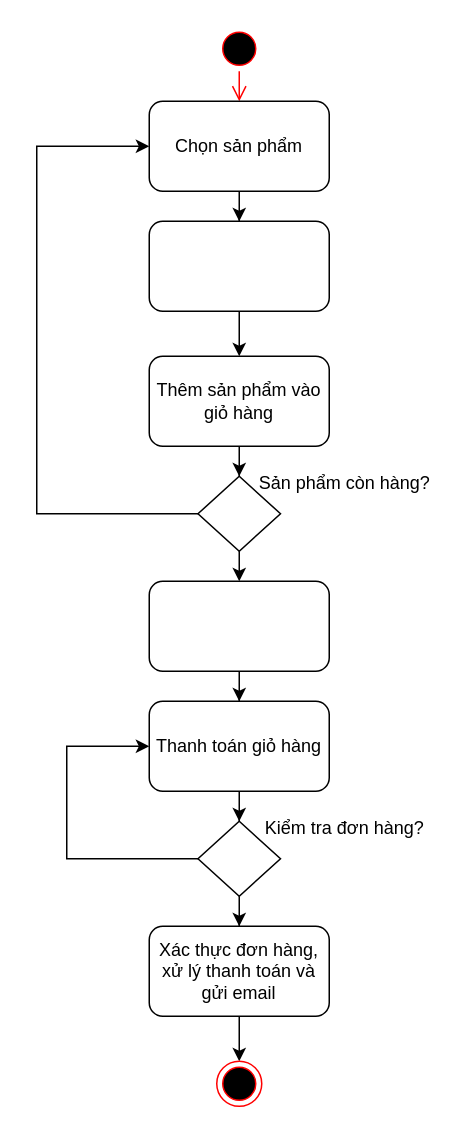
Image size: 476x1133. Some labels were removed from this diagram. The centre of each missing label's shape, as x and y in pixels:
"Kiểm tra giỏ hàng" belongs at point (238, 625).
"Nhấn mua hàng" belongs at point (238, 265).
